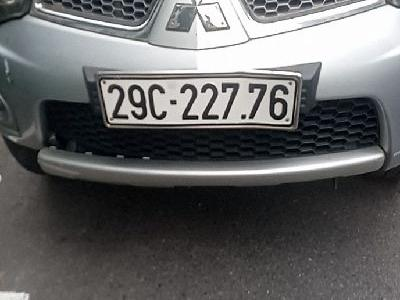number: (95, 71, 296, 131)
